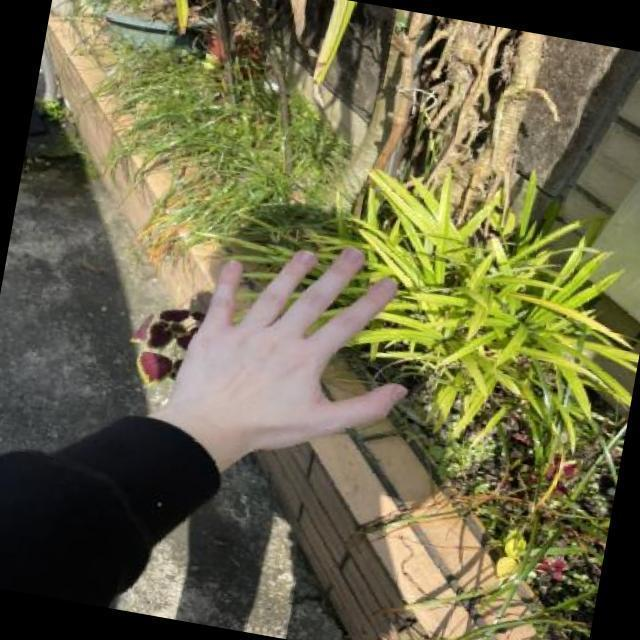hand: (150, 208, 446, 498)
